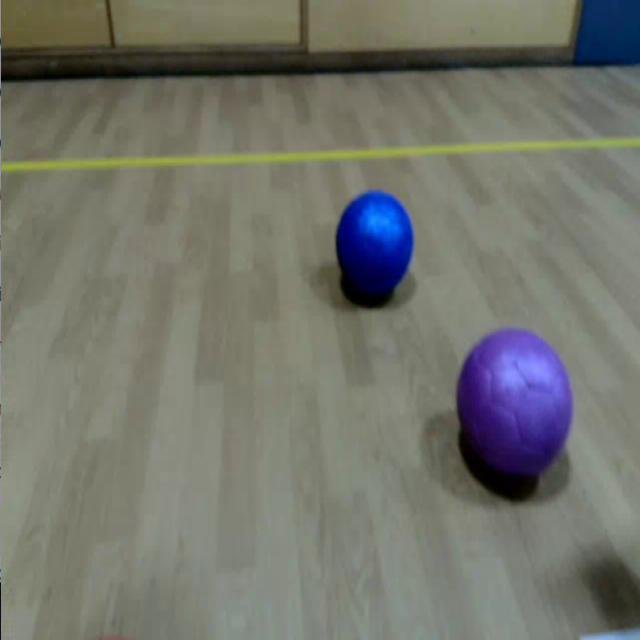blue_ball: (336, 191, 416, 301)
purple_ball: (455, 326, 573, 484)
